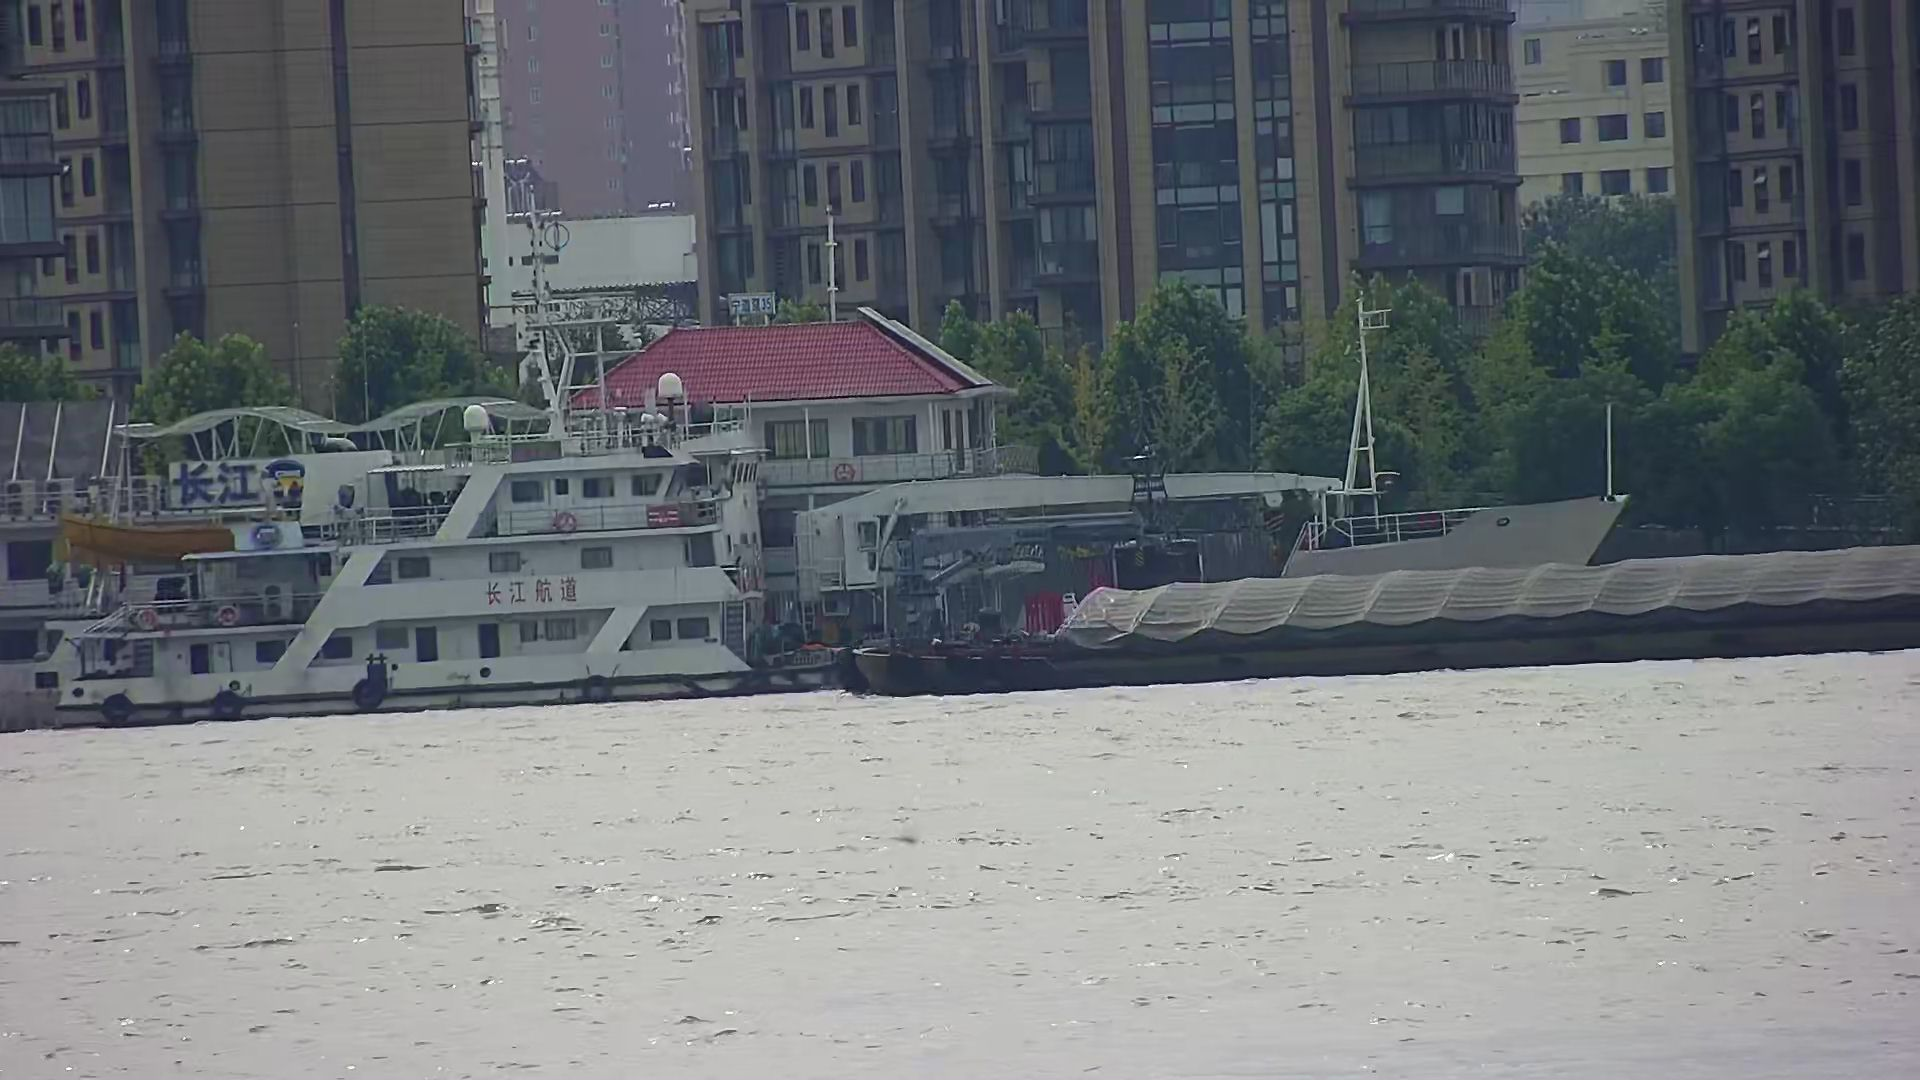ship: (1, 394, 1600, 720), (824, 566, 1920, 705)
